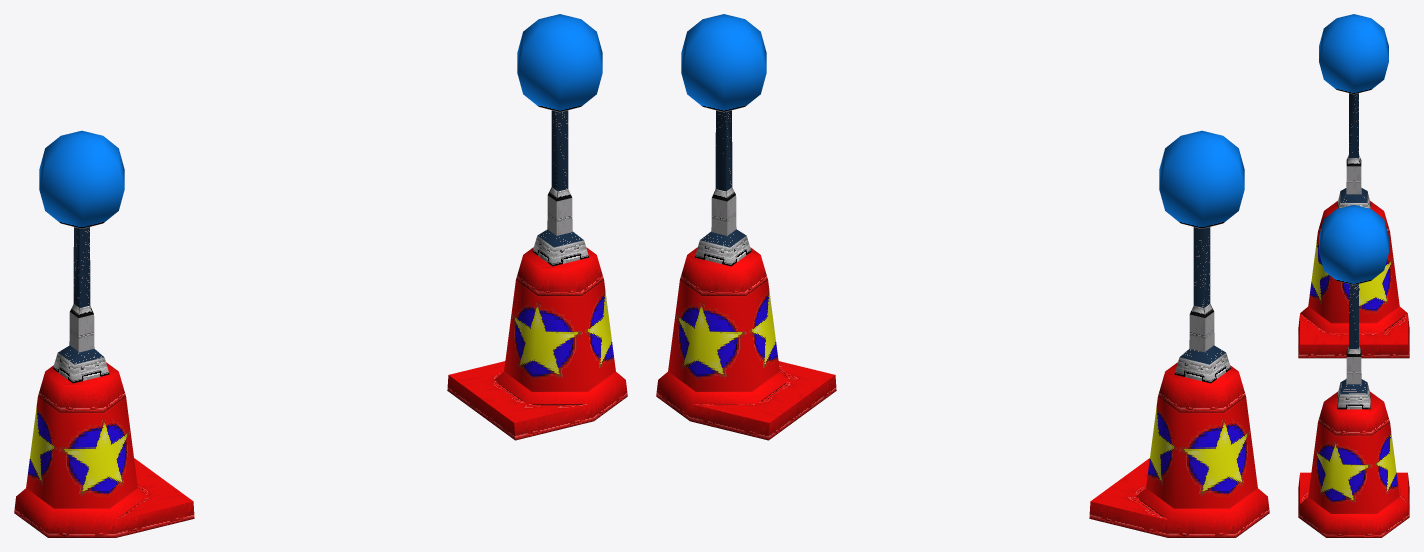
Rendered from checkpoint.obj.
The picture shows the model from 3 angles, left to right: view 1: azimuth 30°, elevation 25°; view 2: azimuth 150°, elevation 25°; view 3: azimuth 270°, elevation 25°; orthographic projection. The views are drawn at different scales.
Visible parts, largest first — view 1: 7, 8, 4, 3, 5, 9, 6; view 2: 7, 8, 4, 3, 5, 9, 6; view 3: 7, 4, 8, 3, 5, 6, 9, 2.
Part boxes in pixels (x1,y1,x2,y2): 7: (26, 280, 615, 508); 8: (14, 247, 627, 537); 4: (39, 14, 602, 228); 3: (115, 361, 591, 520); 5: (58, 110, 583, 364); 9: (53, 236, 588, 383); 6: (69, 195, 572, 352); 7: (668, 280, 1257, 508); 8: (656, 247, 1269, 537); 4: (681, 14, 1244, 228); 3: (692, 361, 1168, 520); 5: (700, 110, 1225, 364); 9: (695, 236, 1230, 383); 6: (711, 195, 1214, 352); 7: (1308, 231, 1399, 513); 4: (1319, 14, 1388, 284); 8: (1298, 201, 1409, 537); 3: (1300, 313, 1407, 503); 5: (1340, 93, 1367, 394); 6: (1346, 166, 1361, 384); 9: (1337, 192, 1370, 409); 2: (1346, 155, 1361, 356).
Size of the model in its own units: 29.48 by 18.37 by 5.98.
9 materials, 9 textured.
